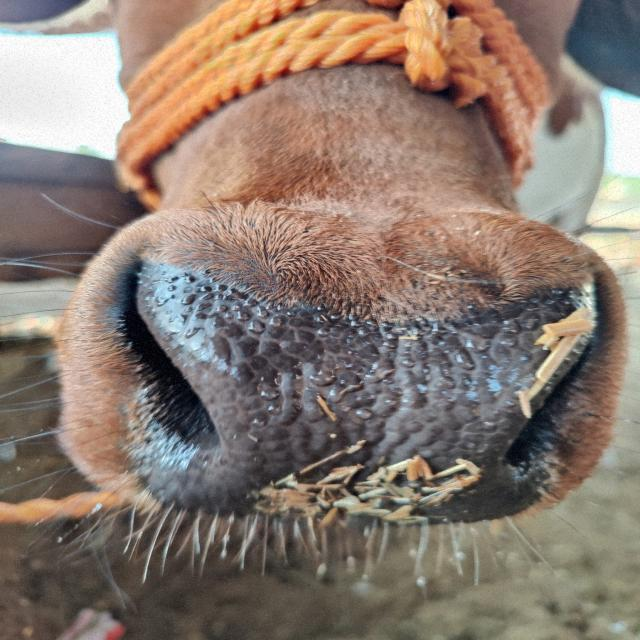muzzles: (116, 225, 614, 527)
